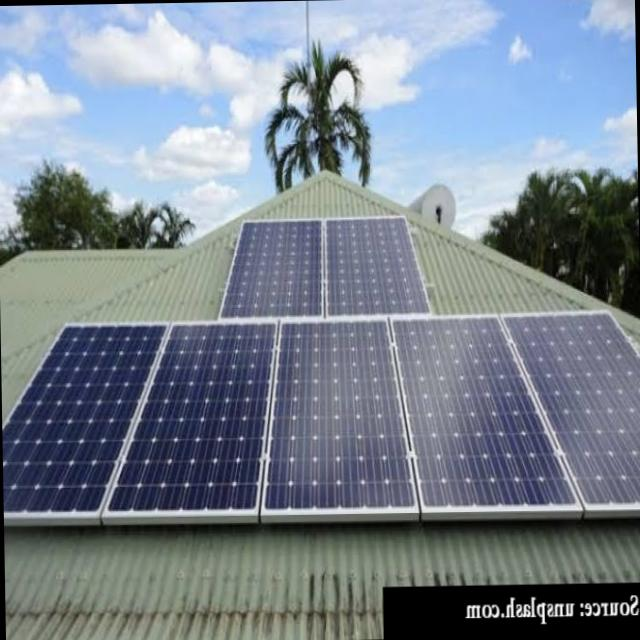no faulty: (2, 311, 640, 511), (220, 218, 427, 318)
